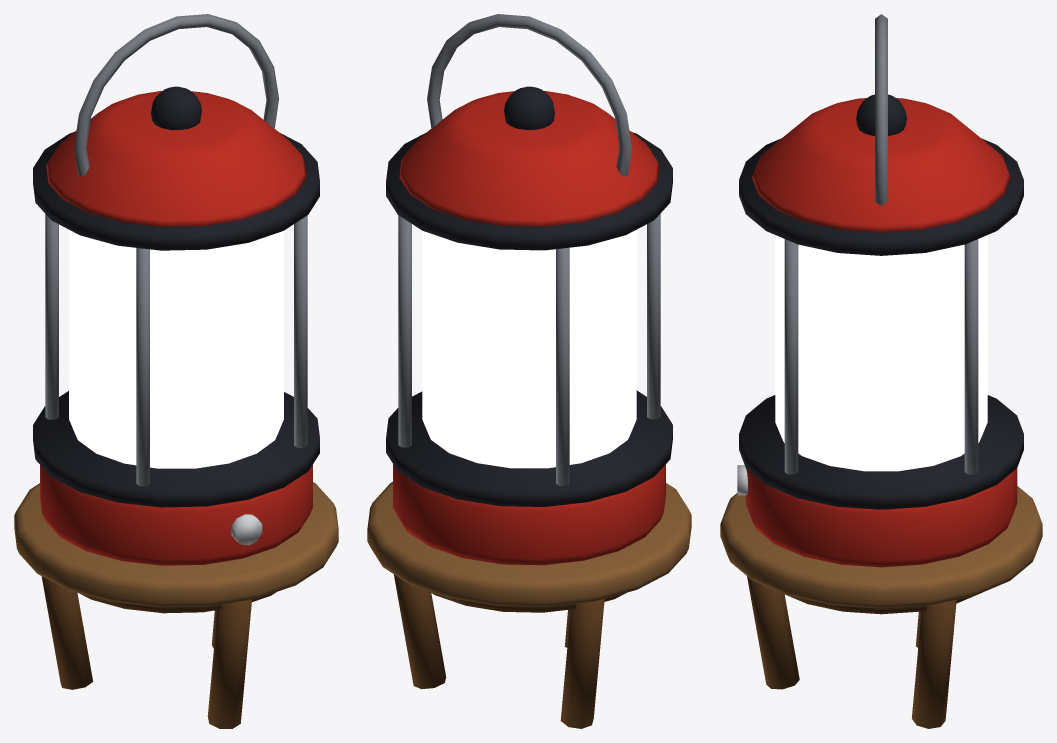
File: charge-lamp.glb
The picture shows the model from 3 angles, left to right: view 1: azimuth 30°, elevation 25°; view 2: azimuth 150°, elevation 25°; view 3: azimuth 270°, elevation 25°; orthographic projection.
Parts seen in each view (by area): view 1: body.001, glow.001, stand.001; view 2: body.001, glow.001, stand.001; view 3: body.001, glow.001, stand.001.
Part boxes in pixels (x1=…): body.001: x1=33, y1=14, x2=319, y2=565; glow.001: x1=69, y1=230, x2=283, y2=468; stand.001: x1=14, y1=482, x2=338, y2=728; body.001: x1=386, y1=14, x2=672, y2=565; glow.001: x1=422, y1=230, x2=636, y2=468; stand.001: x1=367, y1=482, x2=691, y2=728; body.001: x1=737, y1=14, x2=1023, y2=567; glow.001: x1=775, y1=235, x2=987, y2=471; stand.001: x1=720, y1=486, x2=1042, y2=728.
Bounding box in the file's own units: 0.38 × 0.8599 × 0.38.
